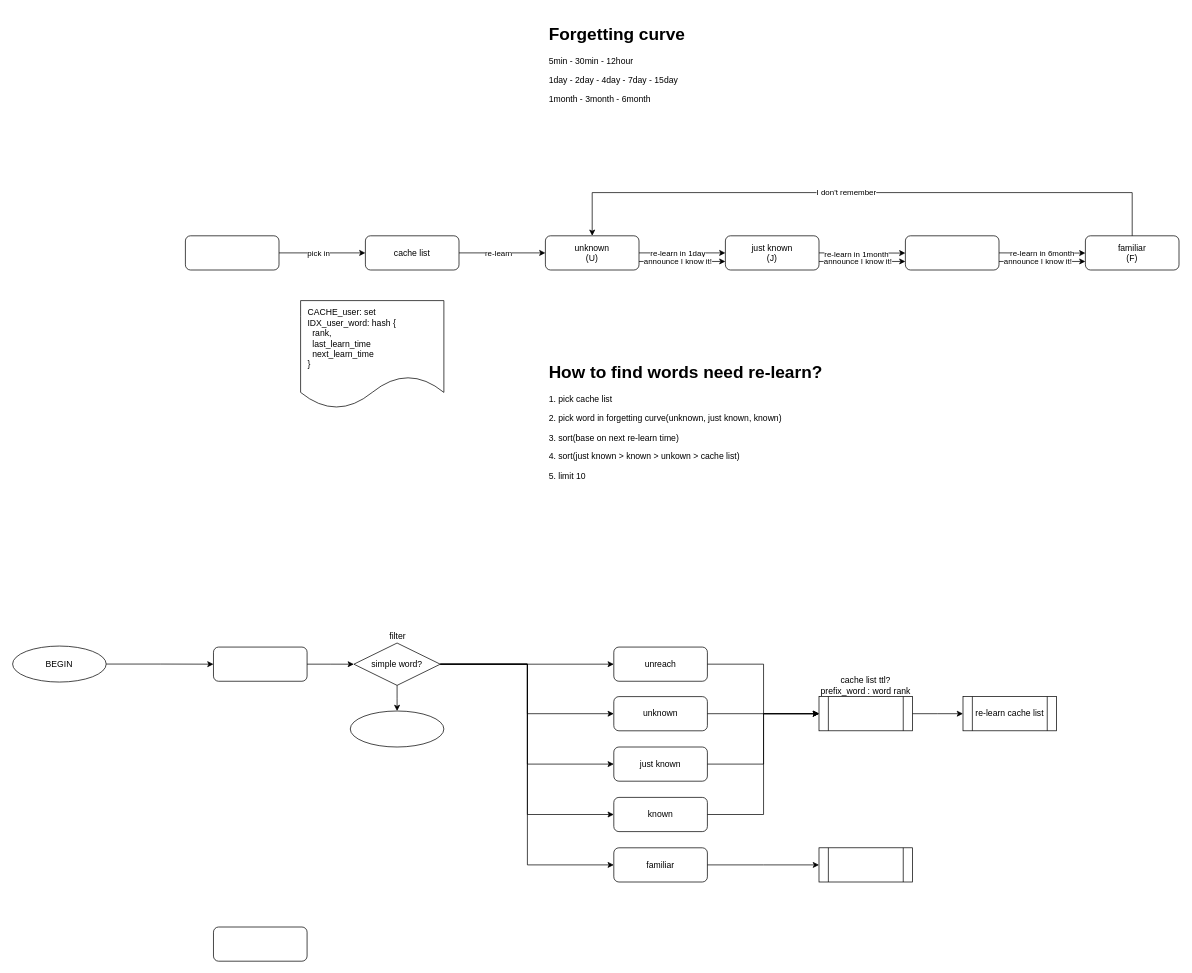
Some shapes in this 1192 by 973 pixel diagram are drawn without their labels. The centre of each missing label's shape, as x and y in pixels:
"add to cache list" goes at pixel 865 713.
"Do you want re learn this word?" goes at pixel 865 864.
"IGNORE" goes at pixel 397 728.
"Input sentence" goes at pixel 260 943.
"Input single word" goes at pixel 260 663.
"known (K)" goes at pixel 952 252.
"untouched (T)" goes at pixel 232 252.
